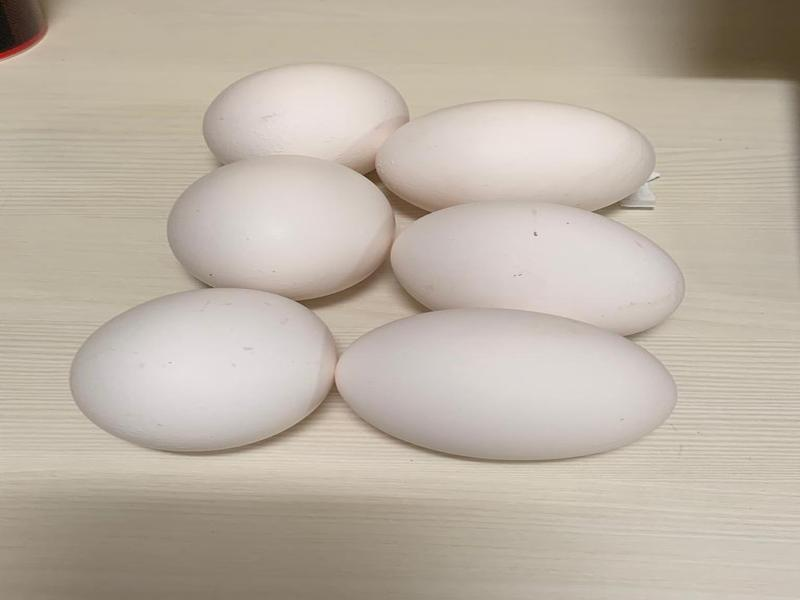egg: (73, 289, 334, 451)
